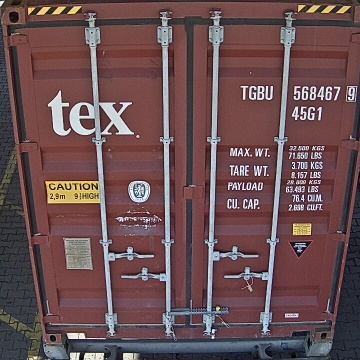serial_id: (240, 85, 356, 100)
